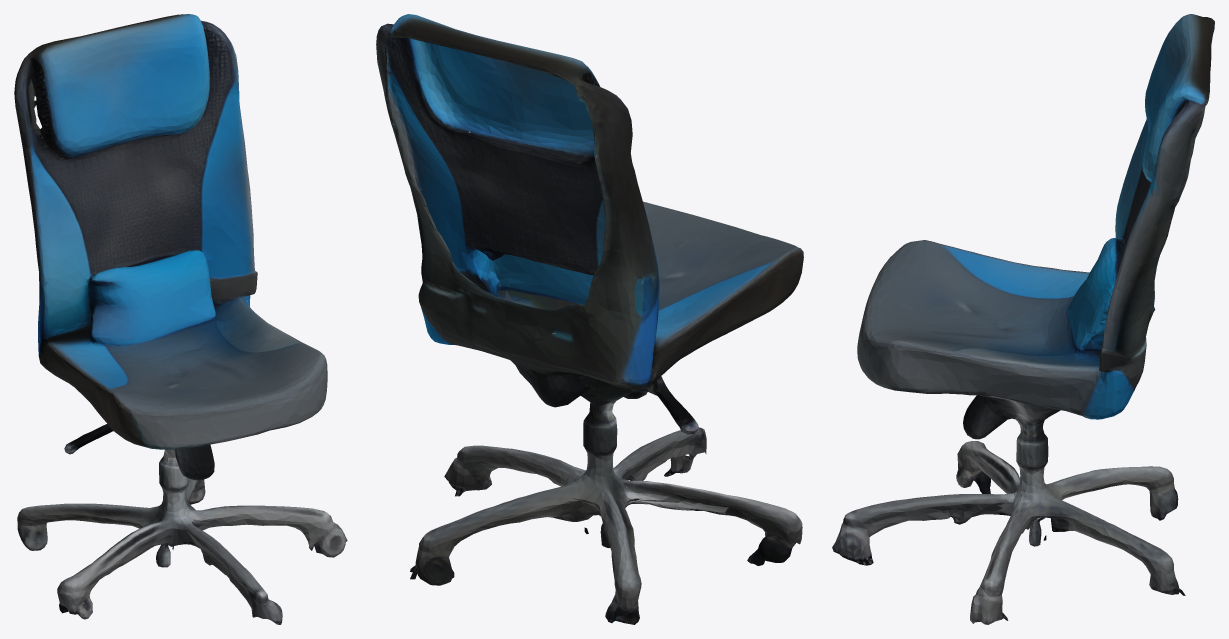
File: Chair5.glb
3 views of the same model, side by side, from view 1: azimuth 30°, elevation 25°; view 2: azimuth 150°, elevation 25°; view 3: azimuth 270°, elevation 25° (orthographic). The views are drawn at different scales.
Visible parts, largest first — view 1: world; view 2: world; view 3: world.
Boxes of the visible parts, x1,y1,x2,y2 form: world: (14,14,347,624); world: (376,14,803,624); world: (832,14,1214,624).
Size of the model in its own units: 0.6318 by 0.9939 by 0.6659.
1 material, 1 textured.
